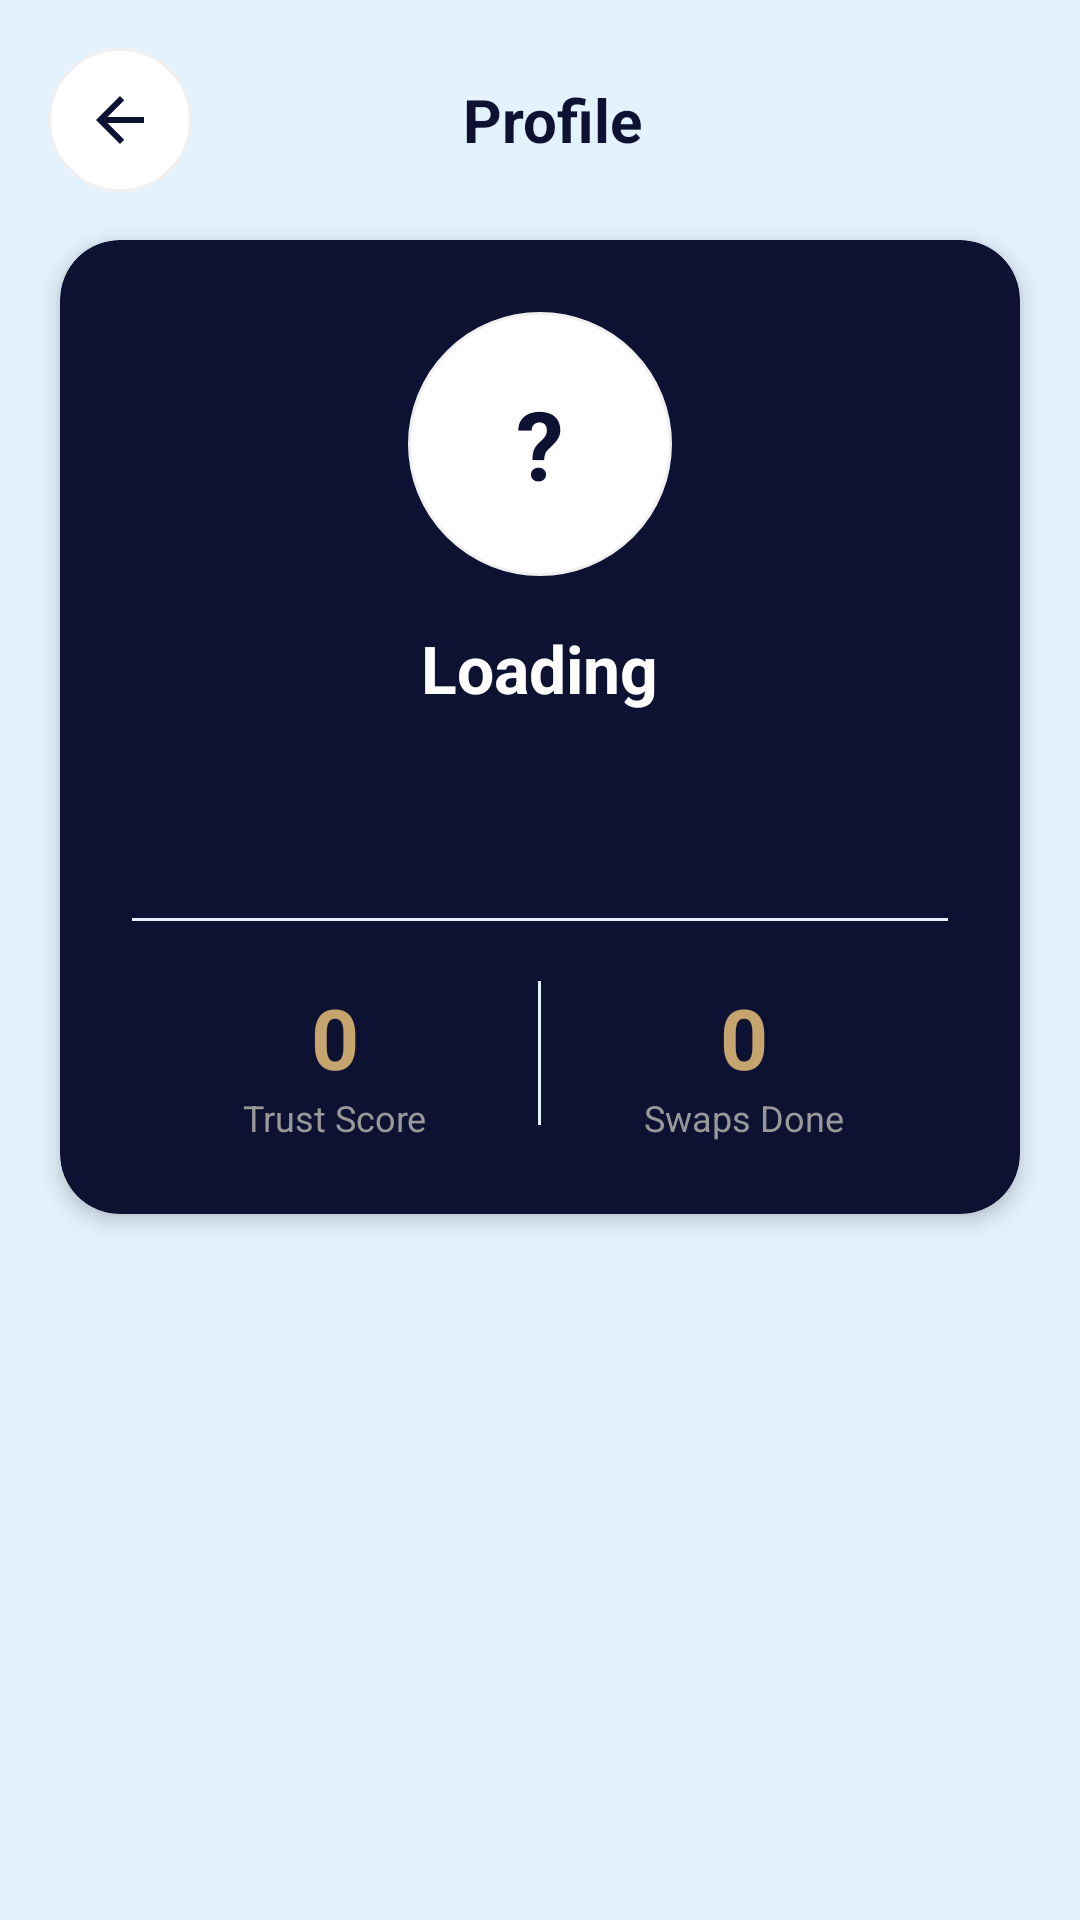

Where to tap for icons on this 1080*1920 app screen, as point (x, y):
Back: point (120, 120)
